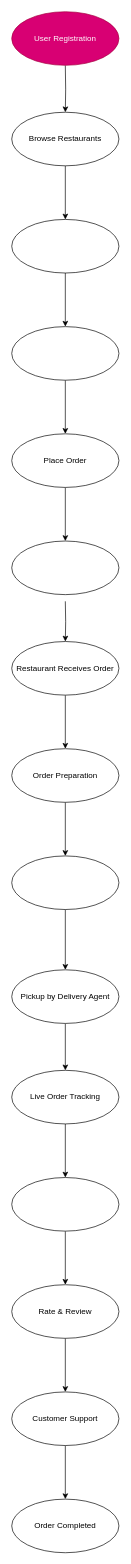
Some shapes in this 131 by 1564 pixel diagram are drawn without their labels. The box of each missing label's shape, as (x1, y1, x2, y2) in pixels:
Add to Cart: (11, 326, 119, 380)
Assign Delivery partner: (11, 855, 119, 910)
Order Delivered: (11, 1177, 119, 1231)
Payment Processing & confirmation: (11, 540, 119, 595)
View Menu&Items: (11, 219, 119, 273)
